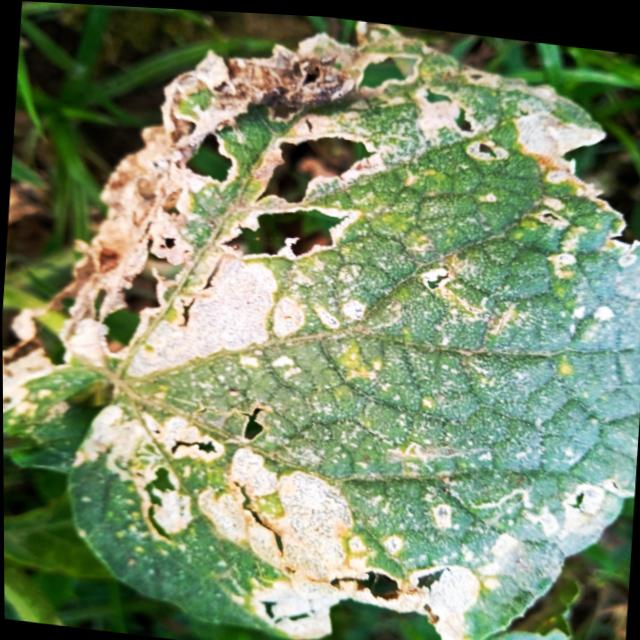Anthracnose: (213, 130, 386, 267), (97, 230, 199, 362), (413, 81, 508, 167), (350, 43, 431, 102), (181, 126, 241, 193), (326, 561, 402, 608), (136, 461, 178, 545), (165, 430, 225, 464), (234, 401, 269, 447)
